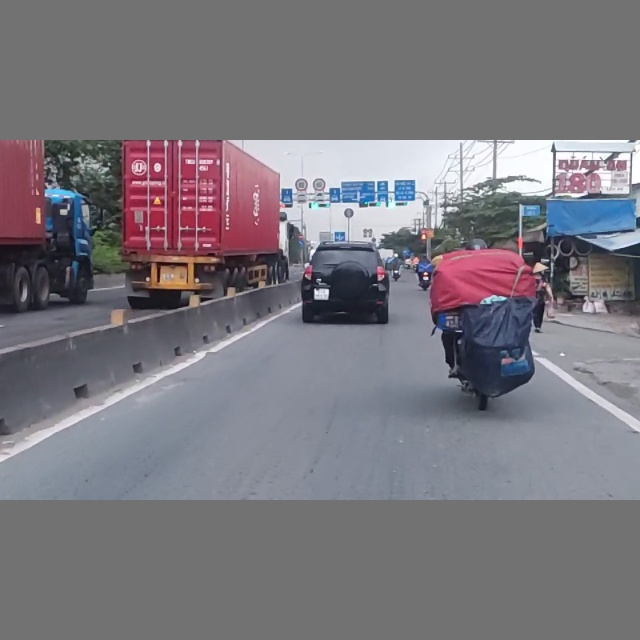P.102: (298, 235, 303, 239)
P.127*60: (312, 177, 327, 192)
P.127*80: (295, 177, 309, 192)
R.302a: (299, 240, 304, 245)
